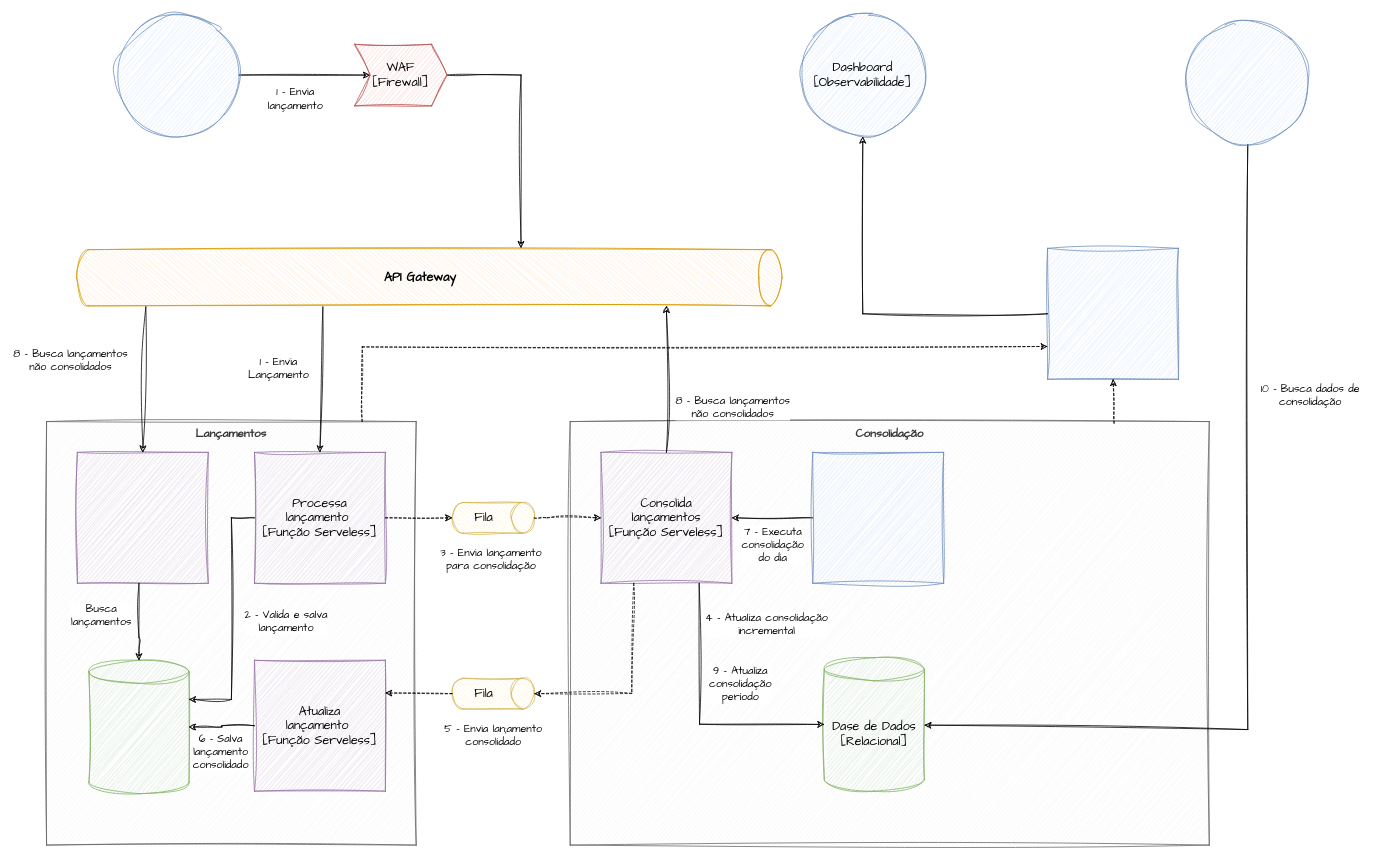
Some shapes in this 1373 by 859 pixel diagram are drawn without their labels. The centre of each missing label's shape, as x and y in pixels:
"Aplicação Cliente" goes at point (177, 75).
"Coletor de Telemetria" goes at point (1112, 313).
"Consolidação [Agendador]" goes at point (878, 517).
"Dase de Dados [NoSQL]" goes at point (138, 727).
"Dashboard [BI]" goes at point (1247, 82).
"Lista lançamentos [Função Serveless]" goes at point (142, 517).
